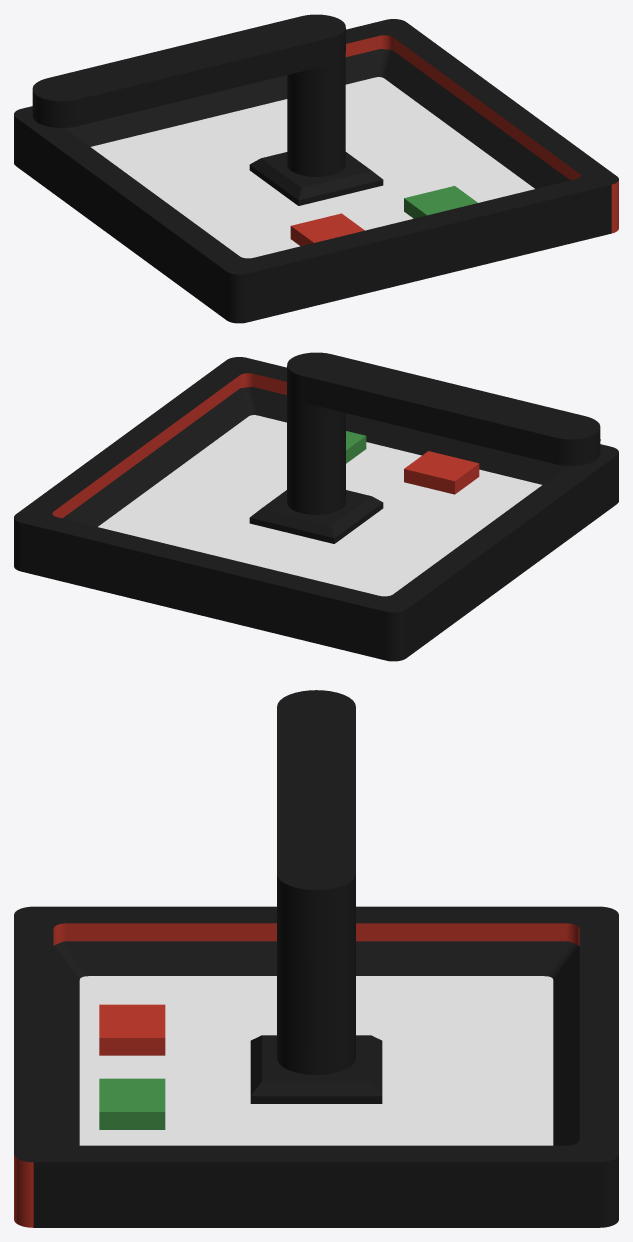
File: pistolgrip switch.fbx
The picture shows the model from 3 angles, top to bottom: view 1: azimuth 30°, elevation 25°; view 2: azimuth 150°, elevation 25°; view 3: azimuth 270°, elevation 25°; orthographic projection. The views are drawn at different scales.
Parts seen in each view (by area): view 1: Base, Handle; view 2: Base, Handle; view 3: Base, Handle.
Boxes of the visible parts, x1=… form: Base: x1=14, y1=19, x2=618, y2=323; Handle: x1=32, y1=14, x2=345, y2=176; Base: x1=14, y1=357, x2=618, y2=661; Handle: x1=287, y1=352, x2=600, y2=514; Base: x1=14, y1=906, x2=618, y2=1227; Handle: x1=277, y1=690, x2=355, y2=1074.
Bounding box in the file's own units: 112 × 38 × 92.
